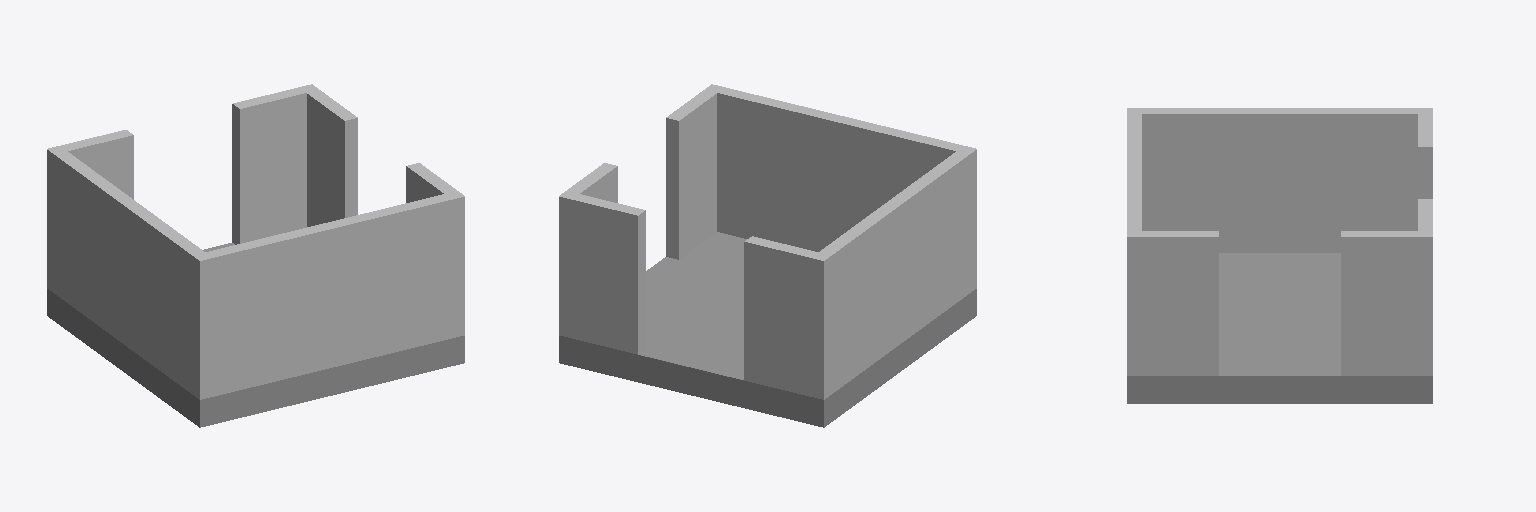
The model's file is big-corner-room_1.obj.
3 renders of one model, left to right at view 1: azimuth 30°, elevation 25°; view 2: azimuth 150°, elevation 25°; view 3: azimuth 270°, elevation 25°, orthographic.
Parts seen in each view (by area): view 1: Cube.002, Cube.006, Cube, Cube.001, Cube.005, Cube.004, Cube.003; view 2: Cube.002, Cube.006, Cube, Cube.001, Cube.003, Cube.004, Cube.005; view 3: Cube.006, Cube, Cube.004, Cube.005, Cube.002, Cube.003, Cube.001.
Boxes of the visible parts, box(x1,y1,x2,y2) form: Cube.002: box(192, 191, 464, 399); Cube.006: box(47, 146, 212, 399); Cube: box(47, 243, 464, 427); Cube.001: box(232, 84, 318, 244); Cube.005: box(299, 84, 357, 226); Cube.004: box(406, 163, 464, 337); Cube.003: box(47, 130, 133, 288); Cube.002: box(705, 85, 976, 290); Cube.006: box(811, 146, 976, 399); Cube: box(559, 232, 976, 427); Cube.001: box(559, 191, 645, 354); Cube.003: box(744, 236, 831, 399); Cube.004: box(666, 84, 724, 259); Cube.005: box(559, 163, 617, 337); Cube.006: box(1127, 108, 1432, 252); Cube: box(1127, 253, 1432, 403); Cube.004: box(1127, 231, 1218, 375); Cube.005: box(1341, 231, 1432, 375); Cube.002: box(1127, 108, 1141, 375); Cube.003: box(1418, 108, 1432, 198); Cube.001: box(1418, 199, 1432, 375).
Size of the model in its own units: 10 by 6 by 10.